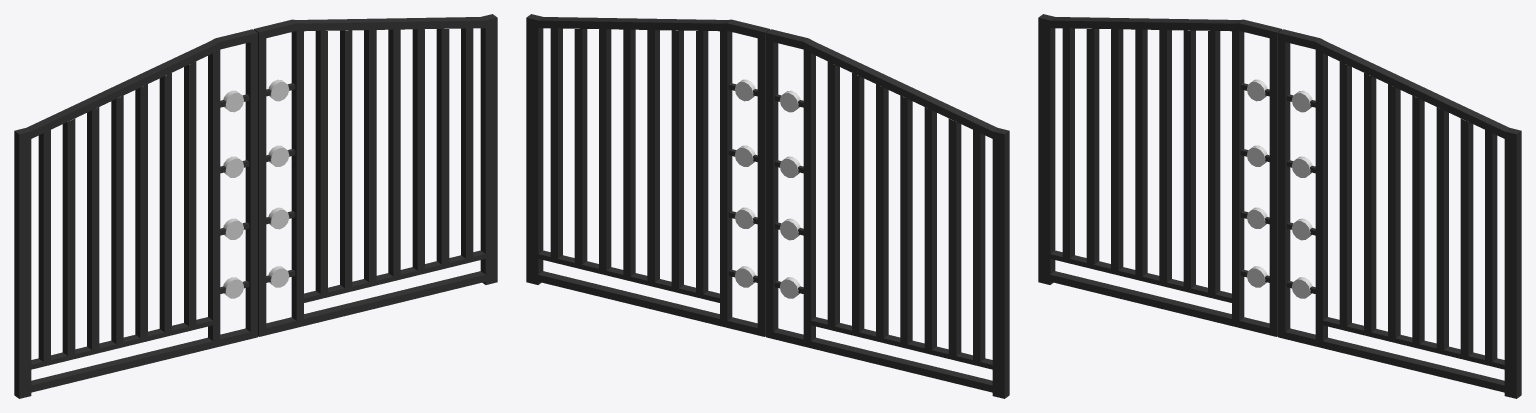
File: door.glb
The picture shows the model from 3 angles, left to right: view 1: azimuth 30°, elevation 25°; view 2: azimuth 150°, elevation 25°; view 3: azimuth 330°, elevation 25°; orthographic projection.
Visible parts, largest first — view 1: Lo-铁艺大门_01; view 2: Lo-铁艺大门_01; view 3: Lo-铁艺大门_01.
Part boxes in pixels (left/top/right/bottom): Lo-铁艺大门_01: left=14, top=14, right=497, bottom=398; Lo-铁艺大门_01: left=526, top=14, right=1009, bottom=398; Lo-铁艺大门_01: left=1038, top=14, right=1521, bottom=398.
Bounding box in the file's own units: 3.69 × 2.27 × 0.0666.
1 material, 1 textured.
